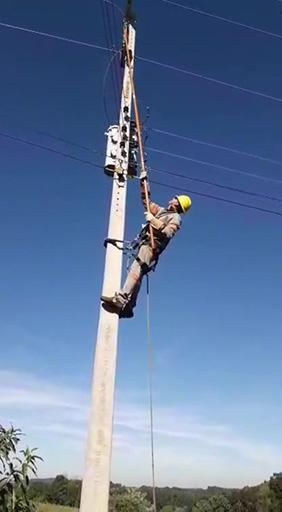Vara_Manobra: (122, 32, 155, 249)
